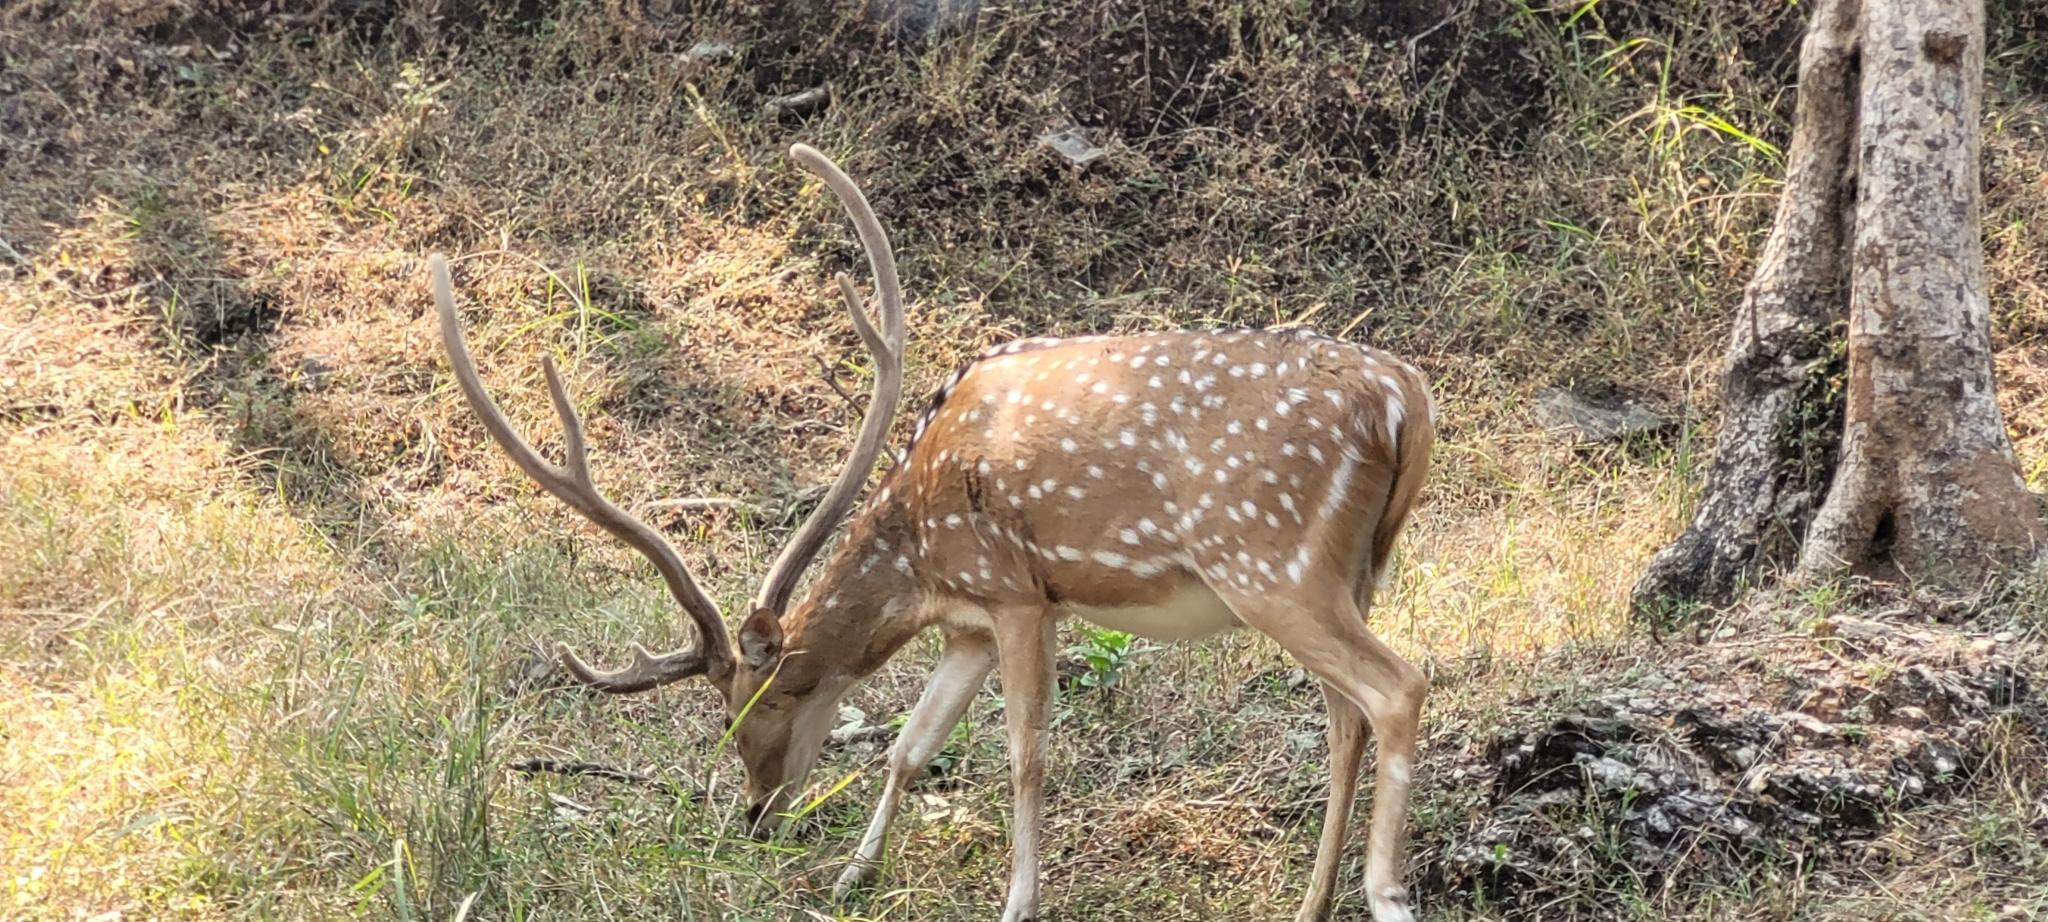Deer: (431, 145, 1433, 921)
